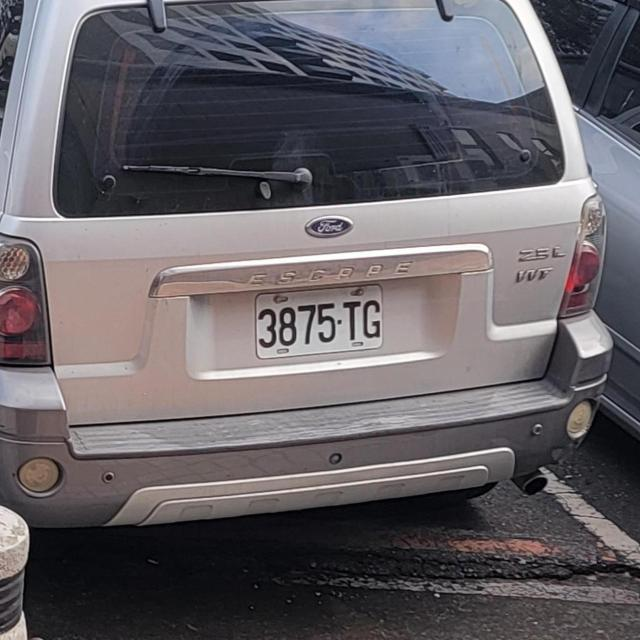W: (247, 279, 389, 361)
